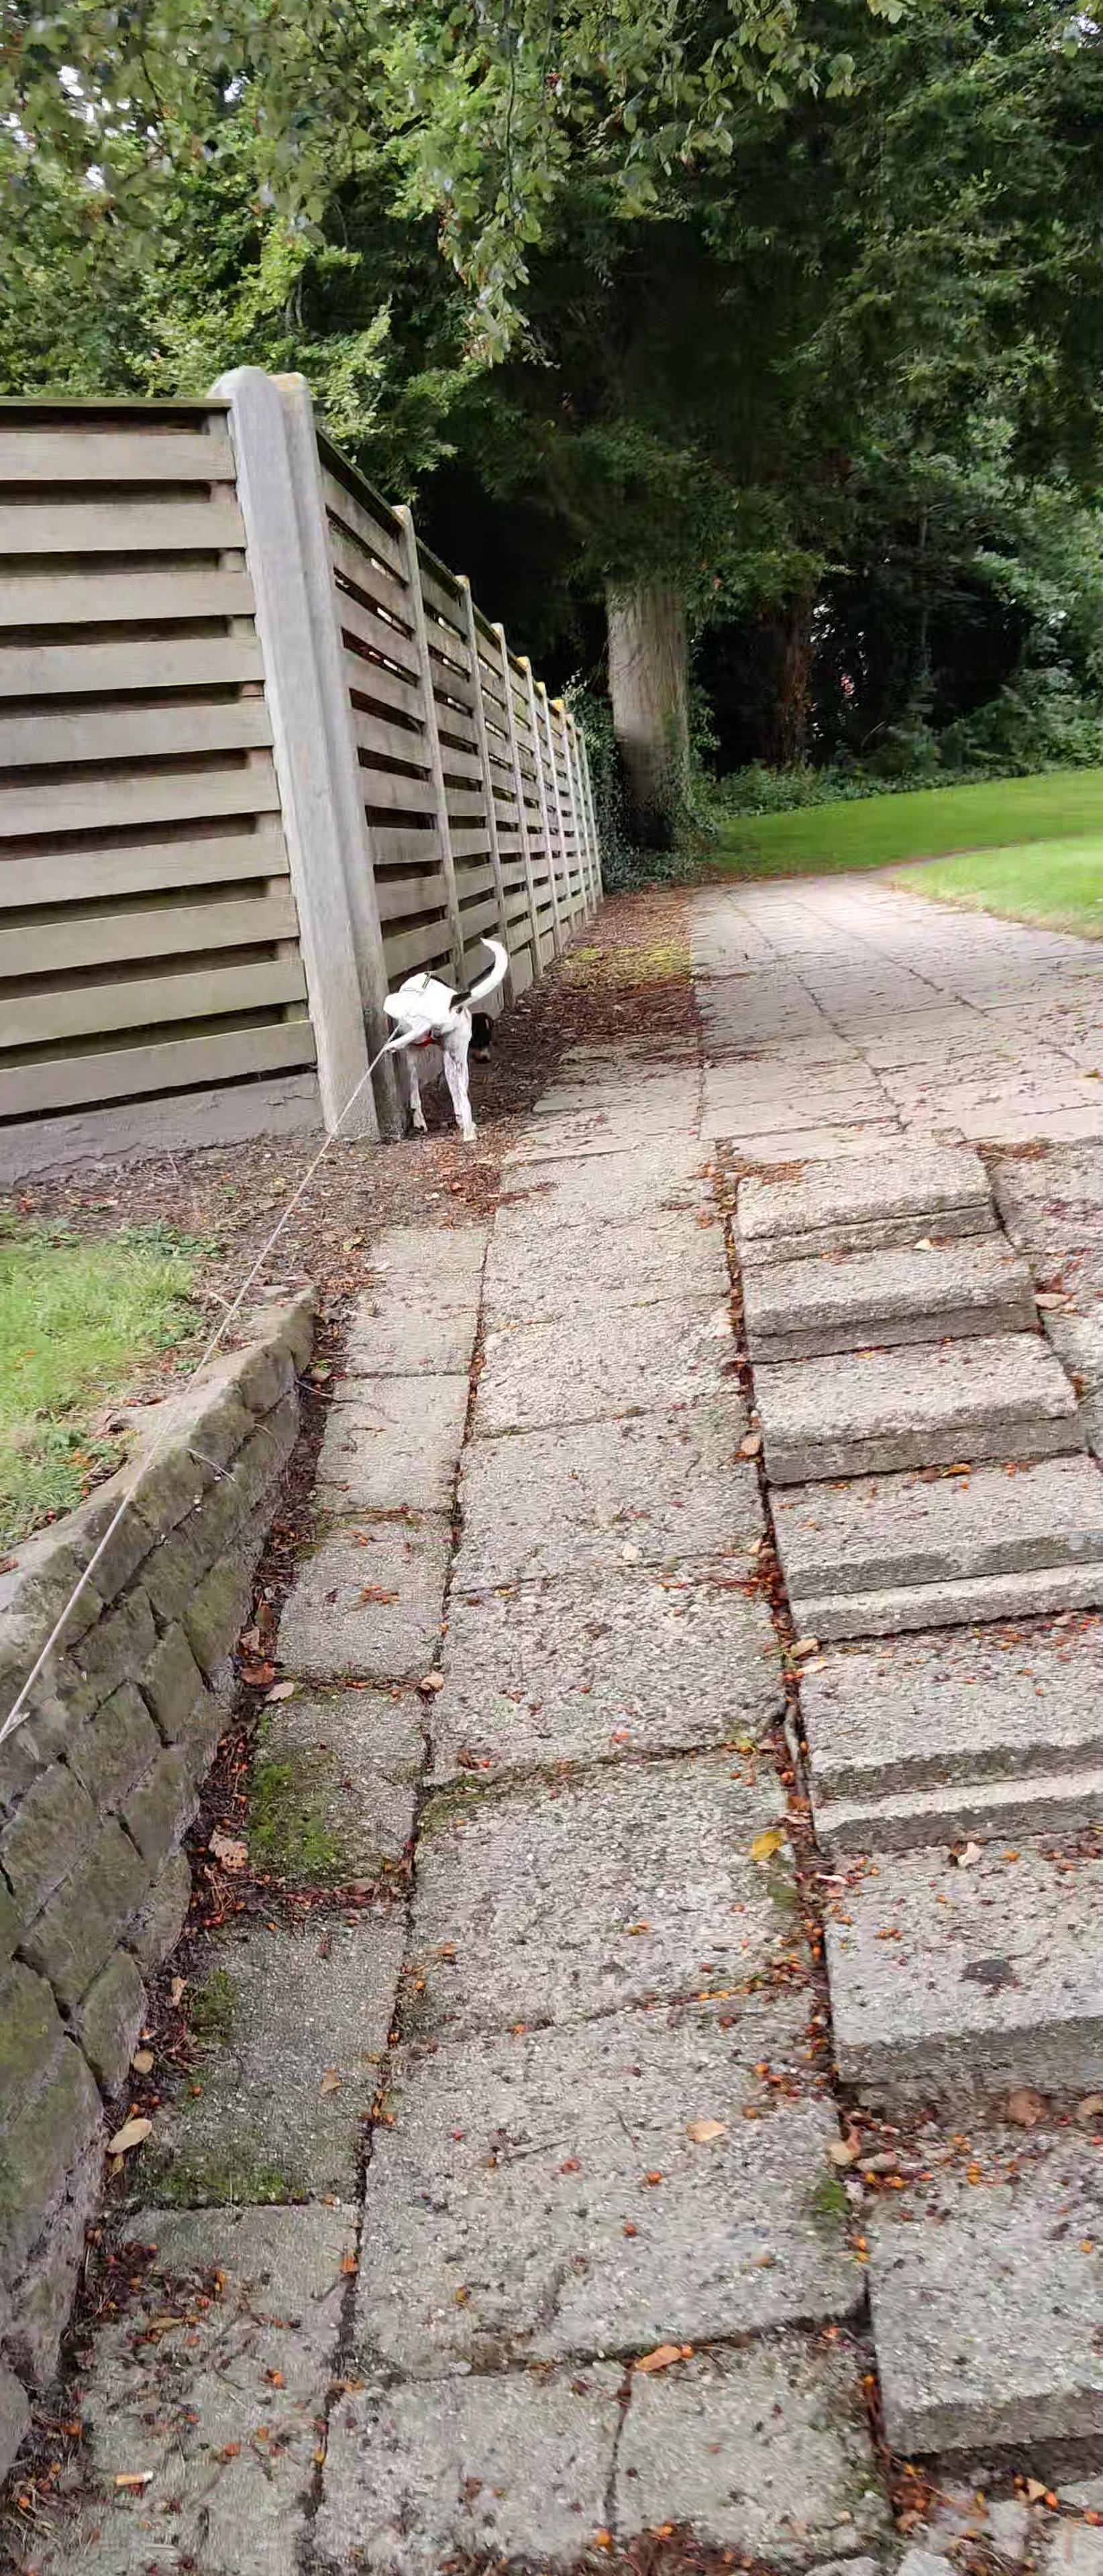Dog: (358, 931, 523, 1148)
